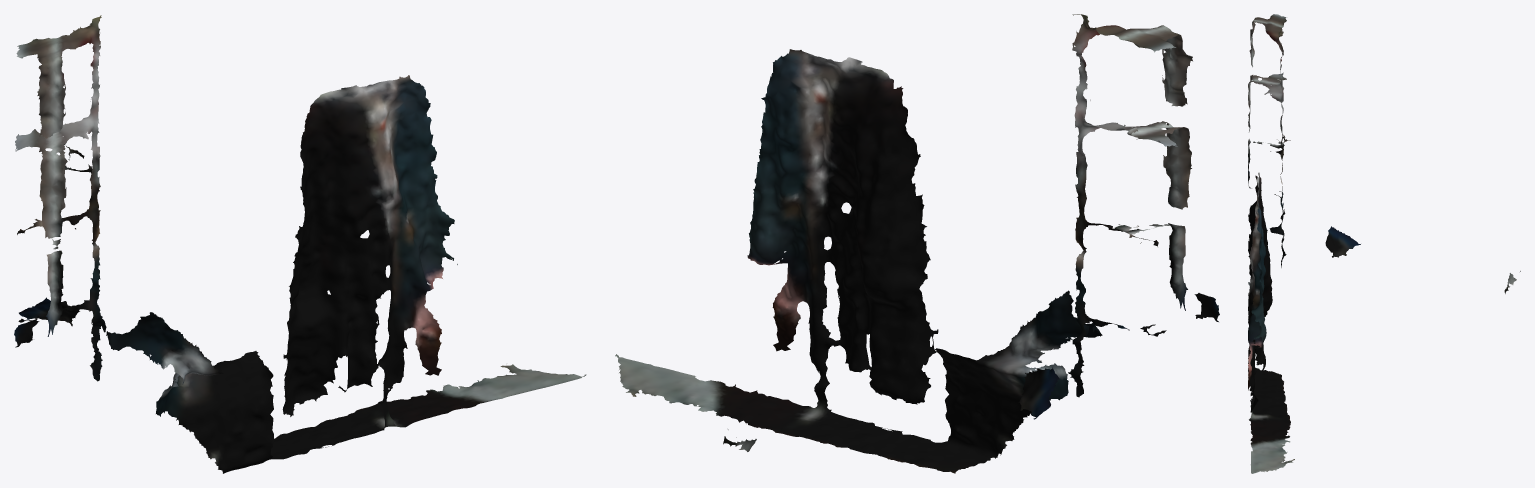
The model's file is color_model_f009_20251226_161546.obj.
3 renders of one model, left to right at view 1: azimuth 30°, elevation 25°; view 2: azimuth 150°, elevation 25°; view 3: azimuth 270°, elevation 25°, orthographic. The views are drawn at different scales.
Size of the model in its own units: 2.12 by 1.66 by 1.35.
